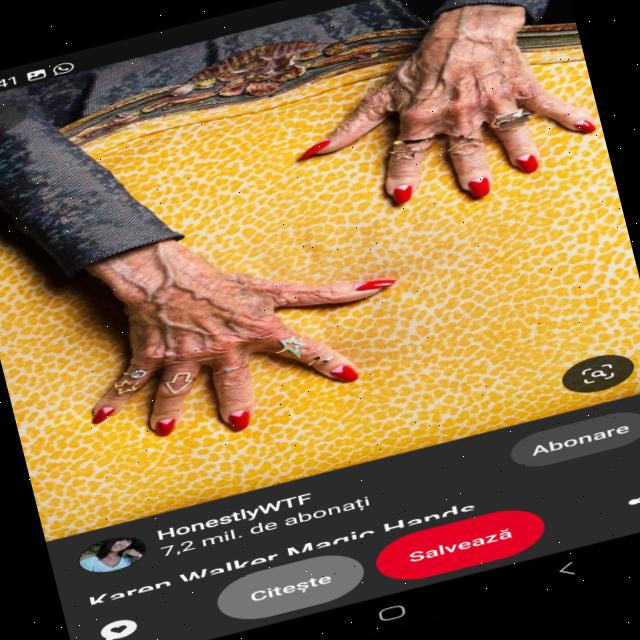hands: (55, 223, 442, 489), (214, 0, 612, 256)
